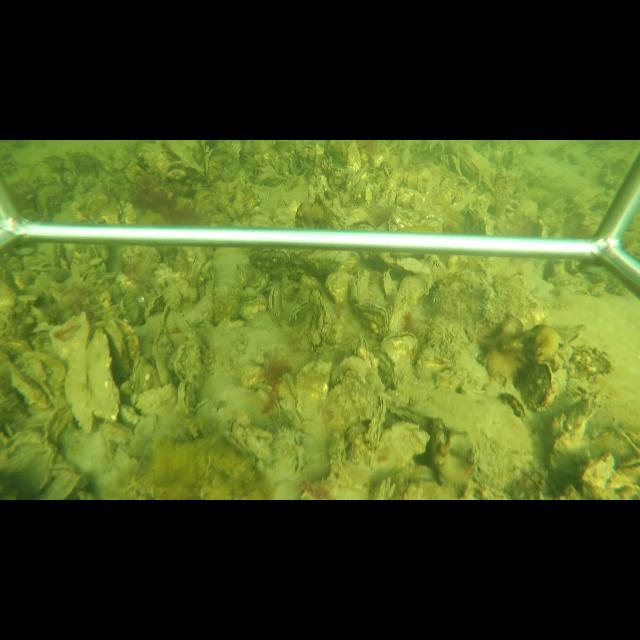Oyster-Closed: (86, 328, 121, 423), (388, 274, 428, 332), (376, 332, 419, 383), (100, 317, 134, 373), (526, 362, 560, 411), (152, 309, 172, 384), (132, 381, 176, 414), (350, 268, 384, 302), (366, 395, 387, 449), (324, 267, 353, 304), (310, 291, 329, 346), (177, 379, 196, 416), (461, 154, 481, 184), (268, 282, 282, 324), (289, 301, 309, 323), (381, 269, 394, 298)
Oyster-Open: (347, 220, 377, 228)
